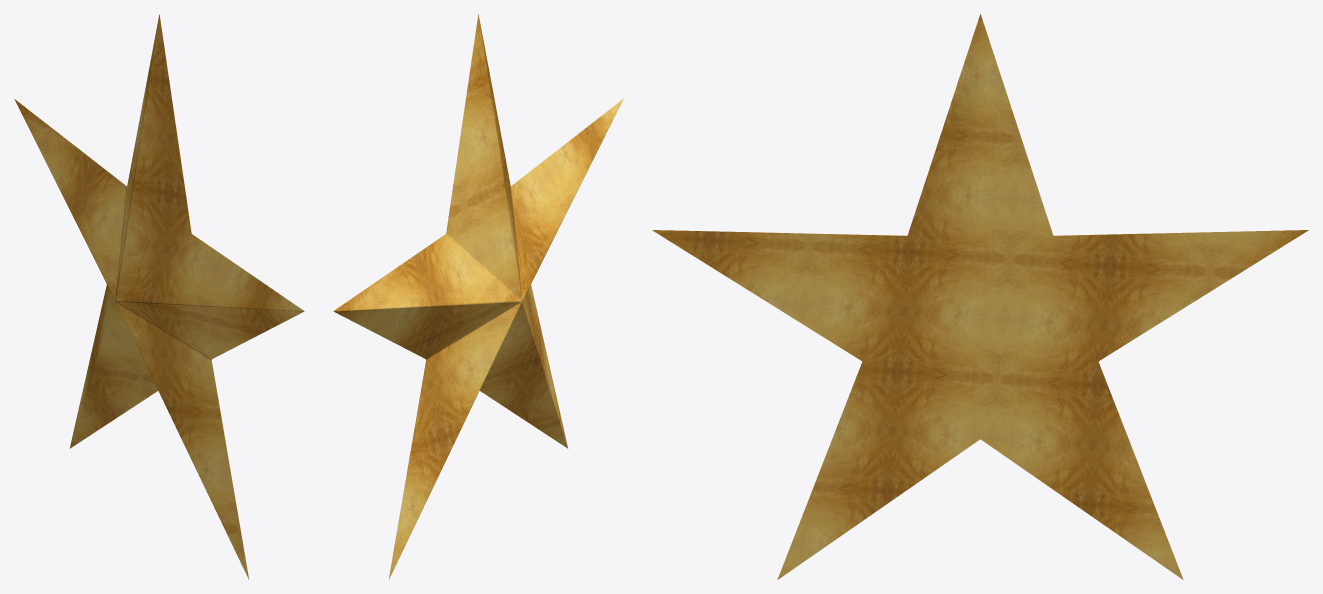
File: ShapeStar.fbx
3 views of the same model, side by side, from view 1: azimuth 30°, elevation 25°; view 2: azimuth 150°, elevation 25°; view 3: azimuth 270°, elevation 25° (orthographic). The views are drawn at different scales.
Visible parts, largest first — view 1: Star001; view 2: Star001; view 3: Star001.
Part boxes in pixels (x1,y1,x2,y2): Star001: (14,14,304,579); Star001: (333,14,623,579); Star001: (652,14,1308,579).
Size of the model in its own units: 8.2 by 90.12 by 94.75.
Materials: 1 (1 with a texture image).
